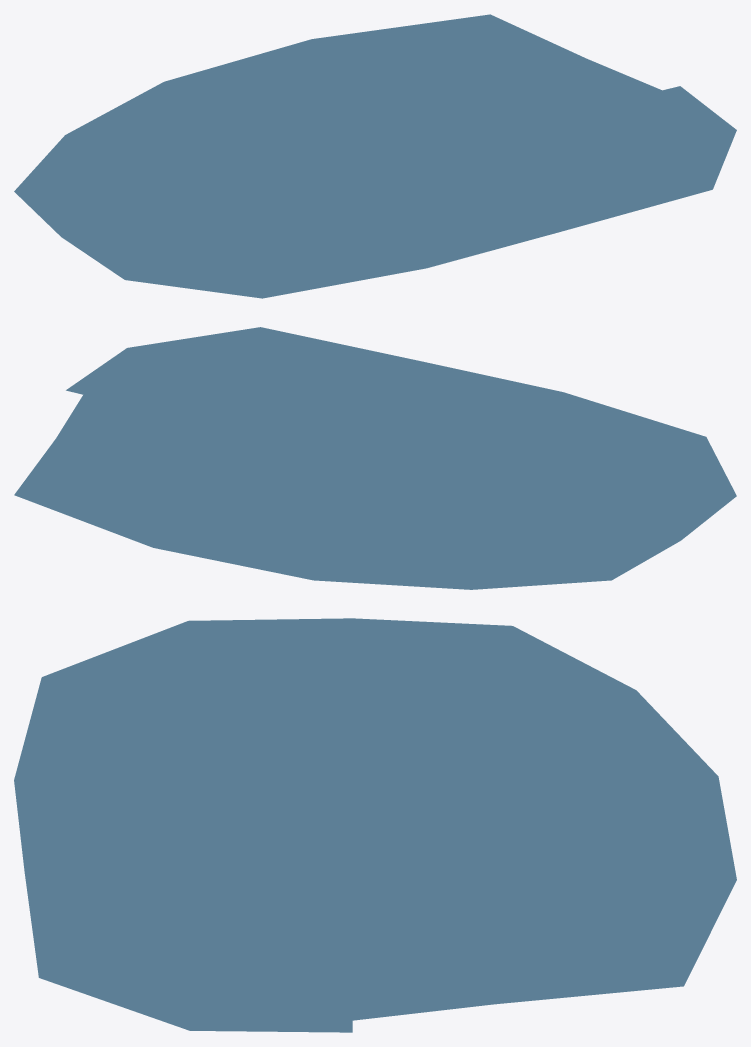
Rendered from puddle.glb.
The picture shows the model from 3 angles, top to bottom: view 1: azimuth 30°, elevation 25°; view 2: azimuth 150°, elevation 25°; view 3: azimuth 270°, elevation 25°; orthographic projection. The views are drawn at different scales.
Visible parts, largest first — view 1: puddle; view 2: puddle; view 3: puddle.
Boxes of the visible parts, x1,y1,x2,y2 form: puddle: [14, 14, 736, 298]; puddle: [14, 327, 736, 589]; puddle: [14, 618, 736, 1032].
Size of the model in its own units: 24.14 by 1.1e-15 by 17.8.
